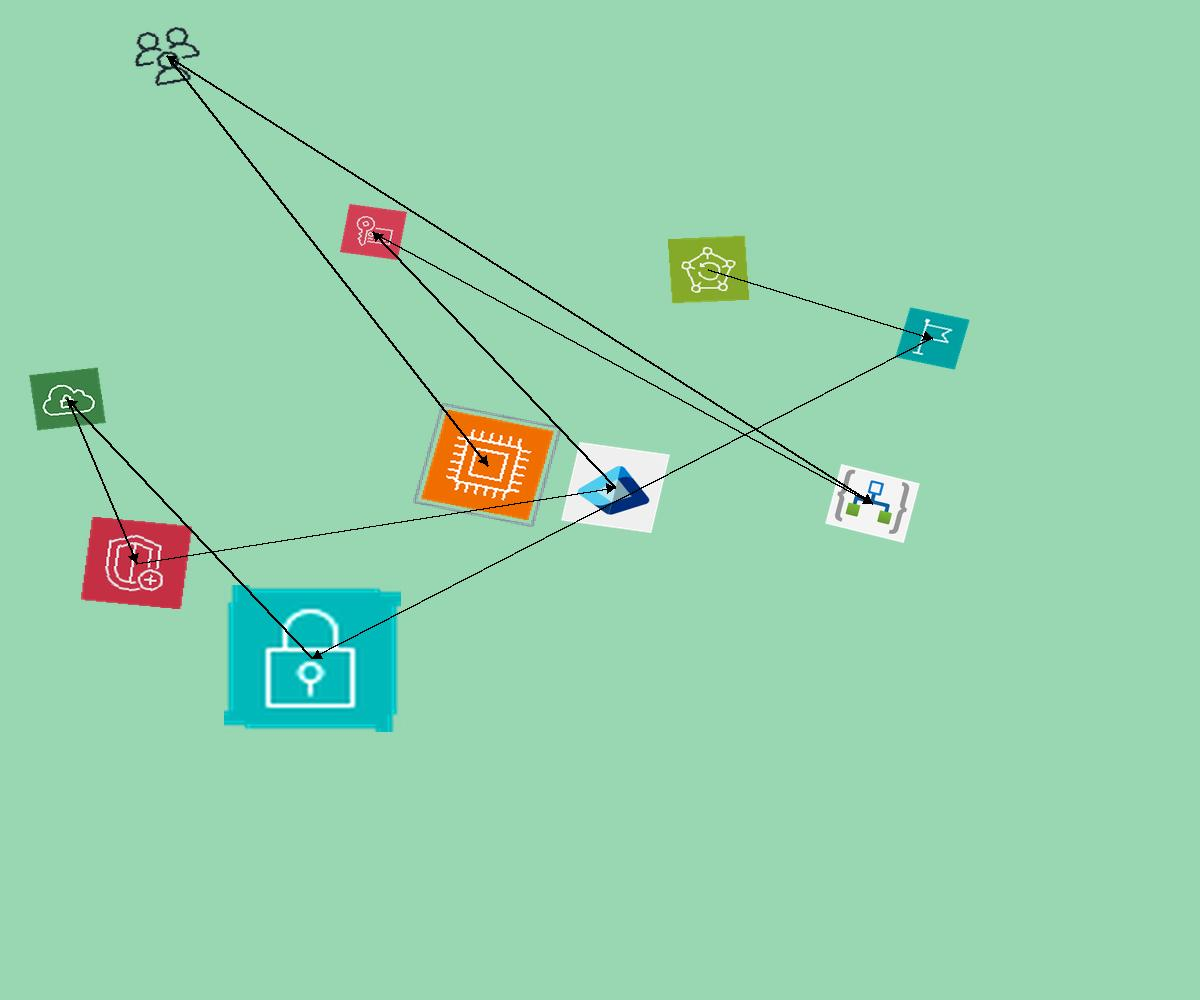AWS-Backup: (667, 235, 750, 304)
AWS-Category_Compute: (412, 402, 563, 528)
AWS-Key-Management-Service: (340, 204, 407, 260)
AWS-Private-subnet: (224, 585, 401, 732)
AWS-Private_vpc: (29, 367, 106, 431)
AWS-Region: (895, 307, 970, 370)
AWS-Res_Users: (124, 21, 210, 92)
AWS-Shield: (80, 516, 193, 610)
Azure_integration-204-Logic-Apps: (825, 464, 920, 543)
Azure_microsoft_entra: (561, 442, 670, 533)
